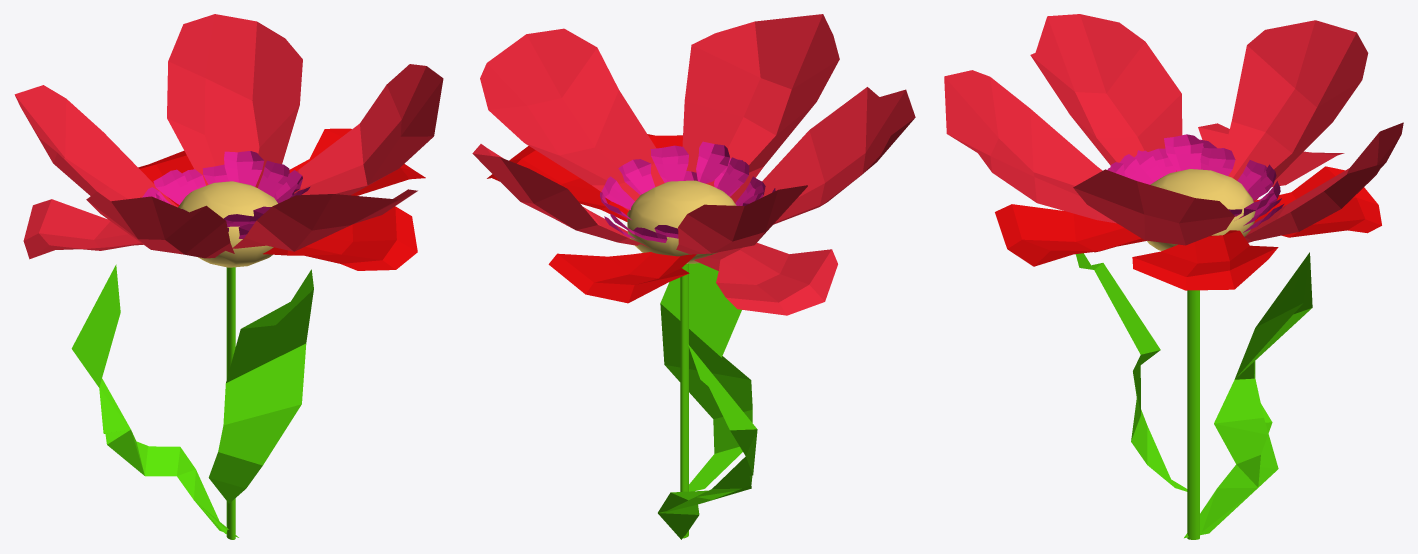
File: flowafinished.glb
3 views of the same model, side by side, from view 1: azimuth 30°, elevation 25°; view 2: azimuth 150°, elevation 25°; view 3: azimuth 270°, elevation 25° (orthographic). The views are drawn at different scales.
Parts seen in each view (by area): view 1: Plane.002, Plane.029, Plane.001, Plane.009, Plane.006, Plane, Plane.003, Plane.021, Plane.004, keski.001, Plane.026, Cylinder (+5 smaller); view 2: Plane, Plane.001, Plane.006, Plane.029, Plane.004, Plane.010, Plane.009, Plane.002, keski.001, Plane.021, Plane.005, Cylinder (+6 smaller); view 3: Plane.009, Plane.006, Plane, Plane.001, Plane.003, Plane.005, Plane.021, Plane.002, Plane.026, Plane.029, Cylinder, keski.001 (+4 smaller).
Boxes of the visible parts, x1,y1,x2,y2 form: Plane.002: (167,14,302,187); Plane.029: (208,269,313,503); Plane.001: (294,64,443,195); Plane.009: (14,85,177,207); Plane.006: (86,191,234,258); Plane: (232,189,417,251); Plane.003: (263,206,417,270); Plane.021: (71,264,226,533); Plane.004: (23,199,143,259); keski.001: (178,181,277,267); Plane.026: (99,378,238,537); Cylinder: (226,267,235,539); Plane: (682,14,839,203); Plane.001: (480,28,664,210); Plane.006: (762,87,915,224); Plane.029: (660,263,752,491); Plane.004: (694,242,837,315); Plane.010: (548,252,696,303); Plane.009: (676,185,807,254); Plane.002: (472,144,648,247); keski.001: (627,180,736,263); Plane.021: (659,344,757,535); Plane.005: (487,146,628,221); Cylinder: (680,263,688,538); Plane.009: (1225,20,1368,202); Plane.006: (1030,14,1182,171); Plane: (944,70,1116,223); Plane.001: (1073,169,1234,245); Plane.003: (995,204,1146,266); Plane.005: (1132,230,1278,290); Plane.021: (1202,252,1312,531); Plane.002: (1244,122,1403,242); Plane.026: (1184,252,1309,538); Plane.029: (1075,253,1187,491); Cylinder: (1187,290,1199,539); keski.001: (1147,169,1255,250).
Bounding box in the file's own units: 10.34 × 11.6 × 10.67.
